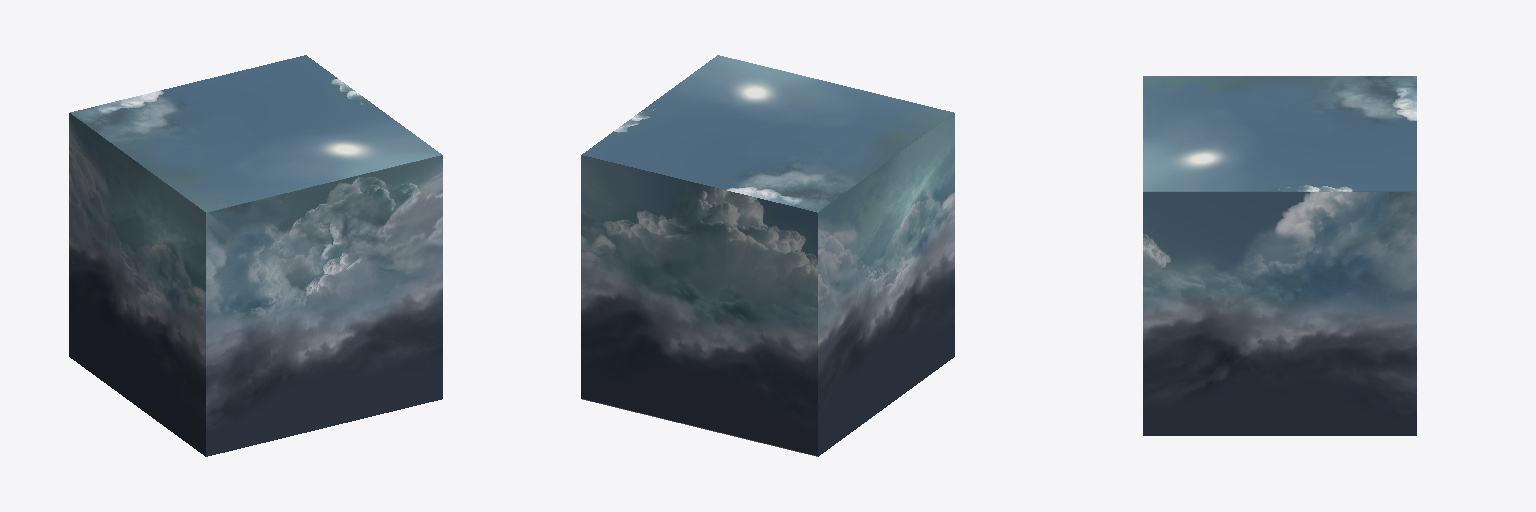
The picture shows the model from 3 angles: view 1: azimuth 30°, elevation 25°; view 2: azimuth 150°, elevation 25°; view 3: azimuth 270°, elevation 25°; orthographic projection.
Parts seen in each view (by area): view 1: Box01; view 2: Box01; view 3: Box01.
Boxes of the visible parts, x1=… form: Box01: x1=69, y1=55, x2=442, y2=456; Box01: x1=581, y1=55, x2=954, y2=456; Box01: x1=1143, y1=76, x2=1416, y2=435.
Size of the model in its own units: 0.732 by 0.7228 by 0.732.
Materials: 6 (6 with a texture image).